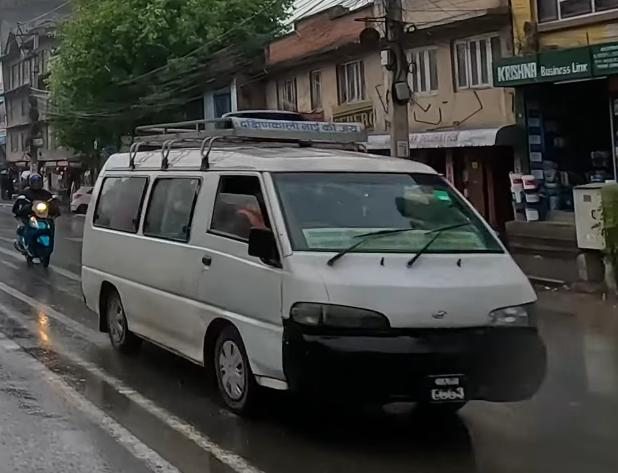micro_bus: (74, 126, 551, 429)
scooter: (14, 191, 62, 271)
